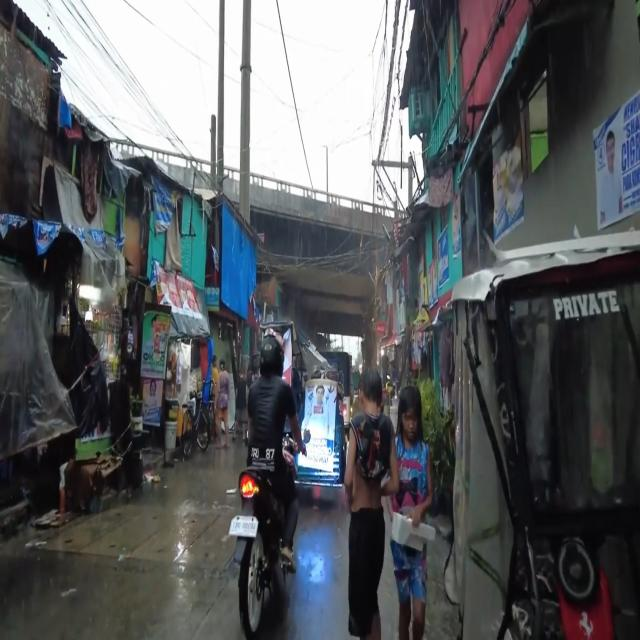full: (260, 335, 285, 378)
